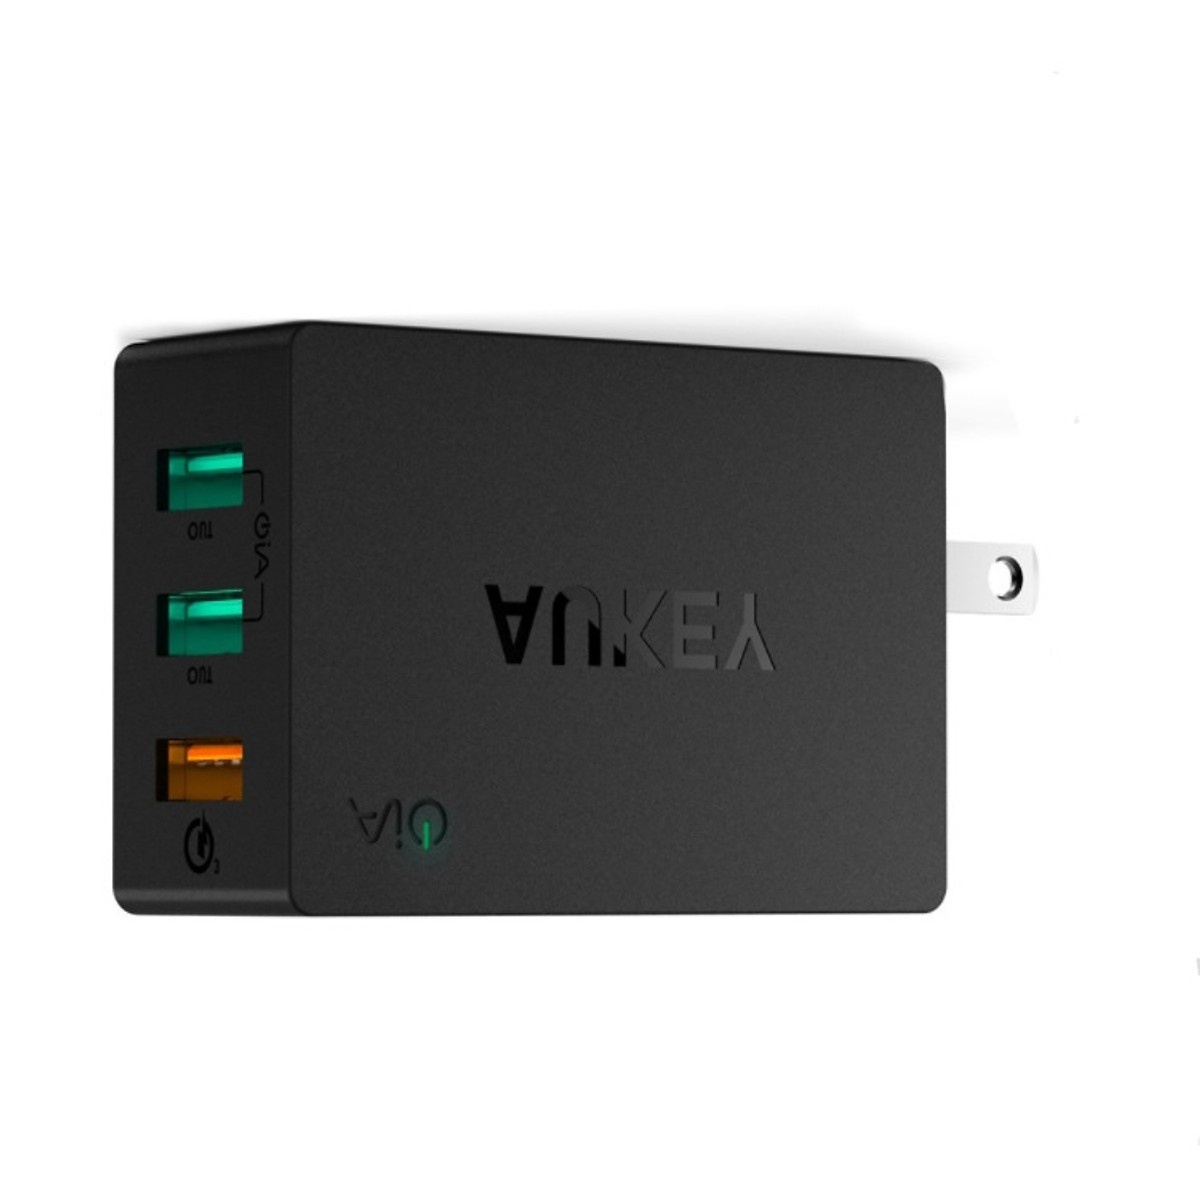Aukey: (452, 481, 866, 720)
